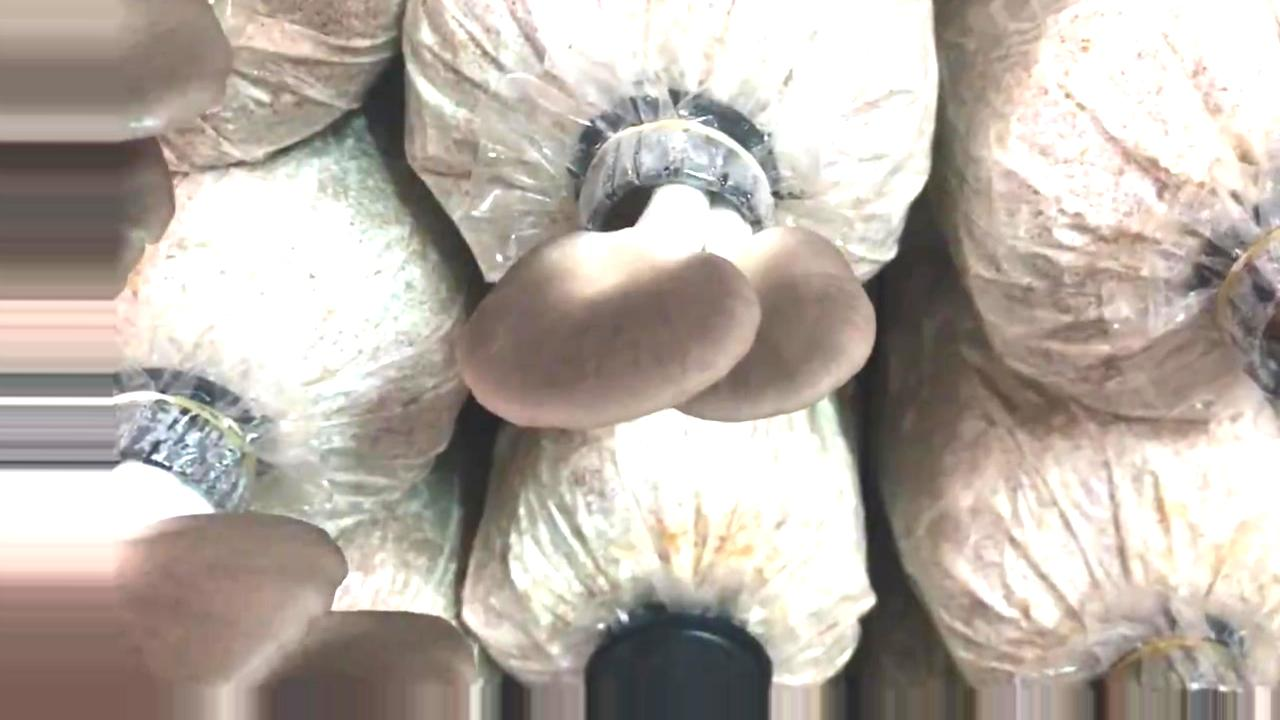nam: (1, 387, 478, 718), (466, 114, 878, 425), (1, 1, 234, 298)
